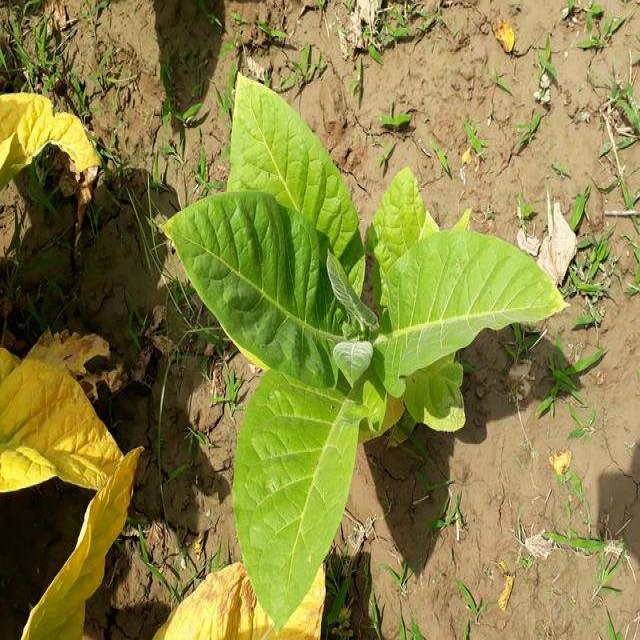crop: (178, 79, 558, 627), (0, 351, 129, 495), (39, 453, 137, 640), (2, 89, 98, 187)
